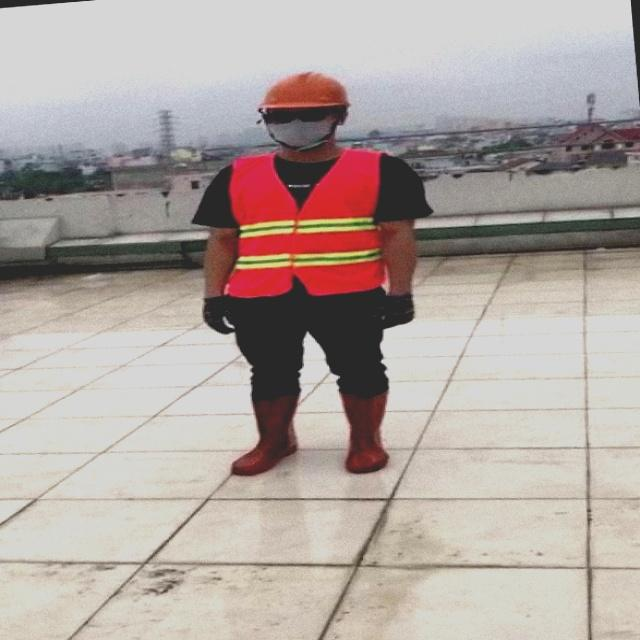helmet: (256, 68, 352, 112)
safety_vest: (225, 148, 388, 298)
